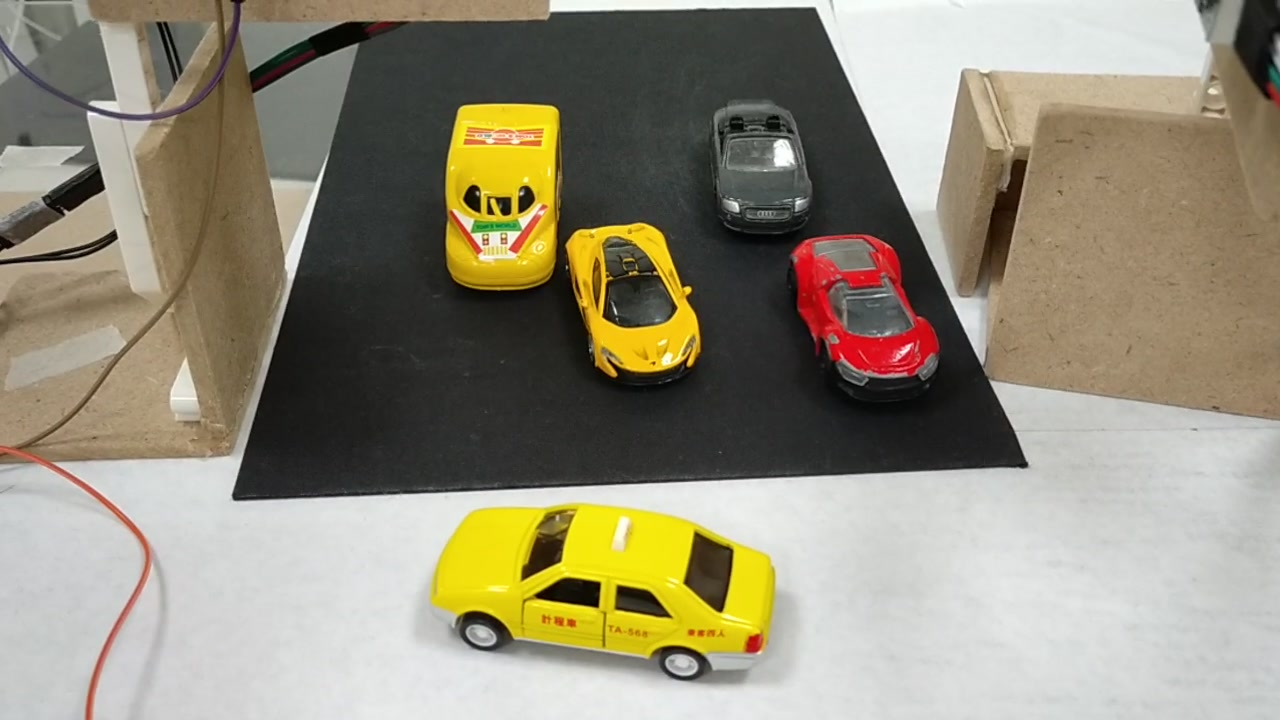car: (436, 509, 774, 683), (566, 221, 708, 386), (793, 240, 938, 397), (707, 98, 809, 232)
